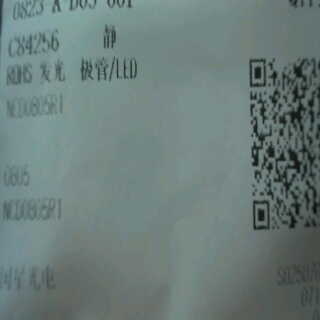LED: (35, 58, 146, 85)
